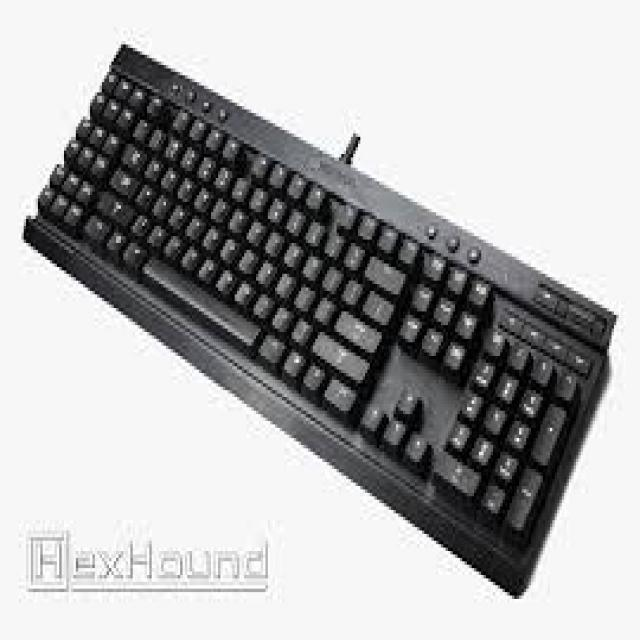keyboard: (21, 48, 620, 606)
